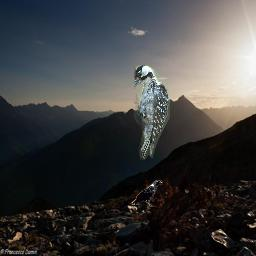Crow: (130, 180, 163, 207)
Woodpecker: (134, 65, 170, 160)
